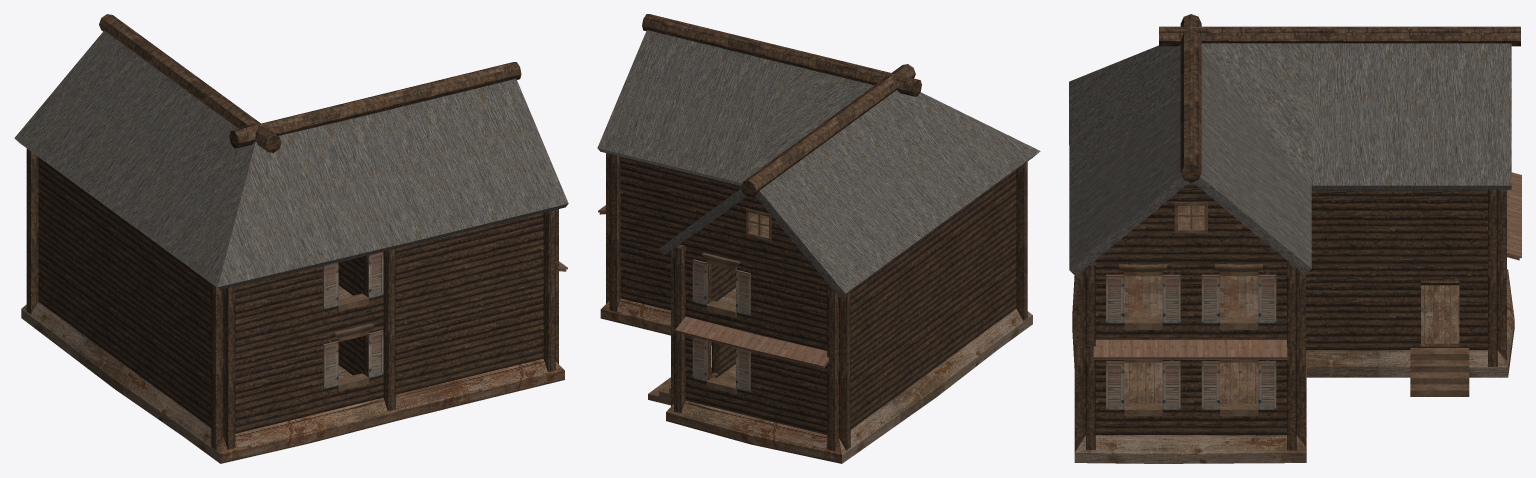
File: Mouse Trap Cabin.glb
The picture shows the model from 3 angles, left to right: view 1: azimuth 30°, elevation 25°; view 2: azimuth 150°, elevation 25°; view 3: azimuth 270°, elevation 25°; orthographic projection. The views are drawn at different scales.
Parts seen in each view (by area): view 1: Cabin Three; view 2: Cabin Three; view 3: Cabin Three.
Boxes of the visible parts, x1,y1,x2,y2 form: Cabin Three: [14, 14, 568, 463]; Cabin Three: [597, 14, 1040, 463]; Cabin Three: [1069, 14, 1521, 463].
Bounding box in the file's own units: 14.23 × 10.43 × 14.19.
6 materials, 6 textured.
